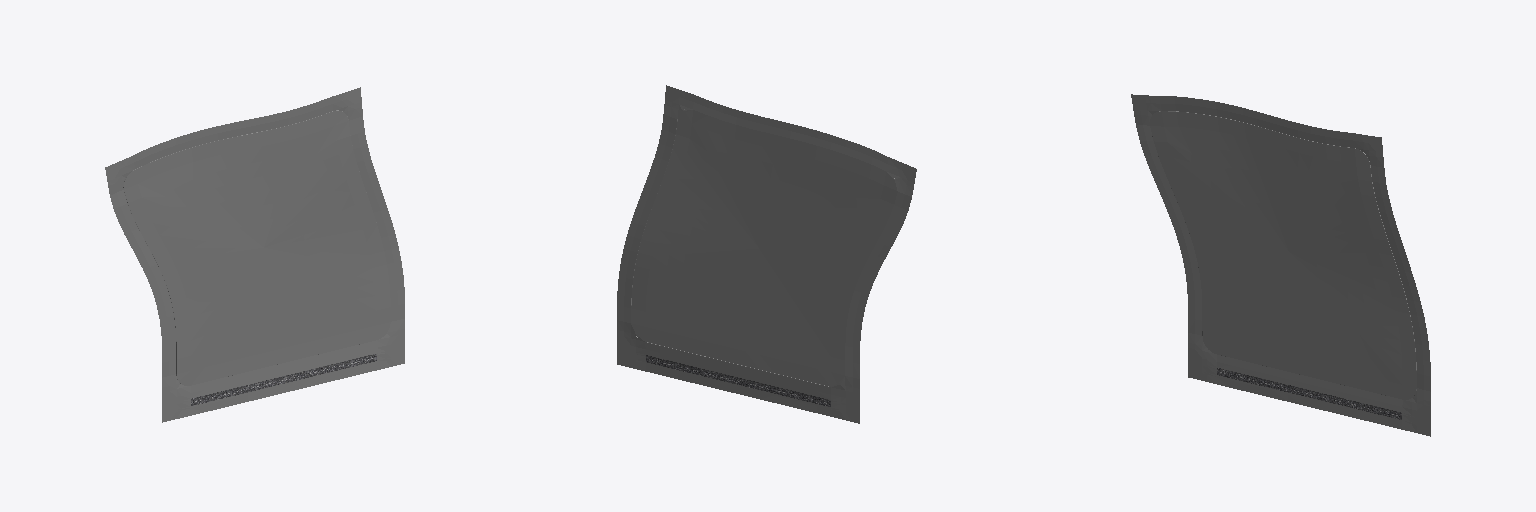
3 renders of one model, left to right at view 1: azimuth 30°, elevation 25°; view 2: azimuth 150°, elevation 25°; view 3: azimuth 330°, elevation 25°, orthographic.
Visible parts, largest first — view 1: block6; view 2: block6; view 3: block6.
Part boxes in pixels (x1,y1,x2,y2): block6: (105,87,404,422); block6: (617,85,916,423); block6: (1131,94,1430,436).
Bounding box in the file's own units: 105 × 96.8 × 1.69.
4 materials, 1 textured.